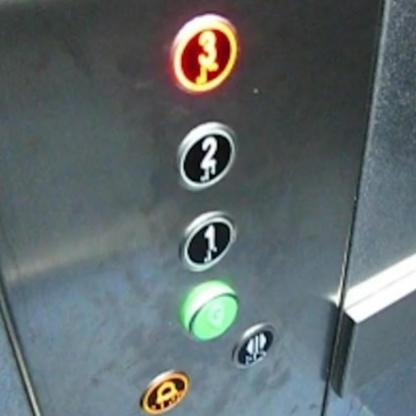1: (176, 208, 242, 274)
2: (171, 115, 241, 195)
3: (166, 8, 244, 98)
alarm: (136, 365, 192, 415)
call: (178, 278, 240, 343)
open: (229, 322, 279, 370)
